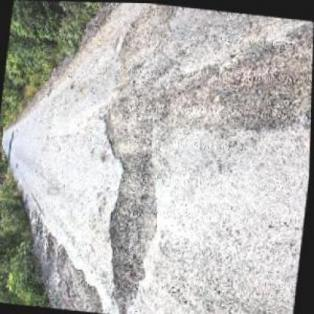Hueco: (100, 168, 160, 306), (97, 106, 163, 165)
